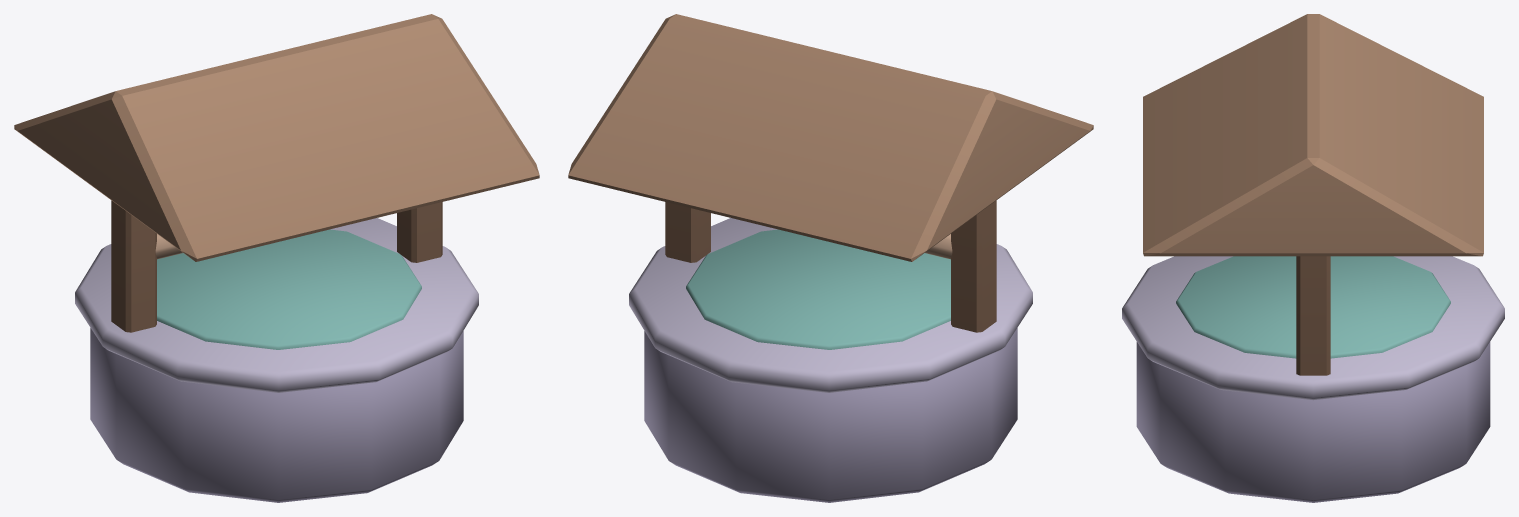
The model's file is well.glb.
3 views of the same model, side by side, from view 1: azimuth 30°, elevation 25°; view 2: azimuth 150°, elevation 25°; view 3: azimuth 270°, elevation 25° (orthographic). The views are drawn at different scales.
Visible parts, largest first — view 1: well; view 2: well; view 3: well.
Part boxes in pixels (<box>): well: <box>14,14,539,502</box>; well: <box>568,14,1093,502</box>; well: <box>1122,14,1504,502</box>.
Bounding box in the file's own units: 0.8 × 0.8 × 0.8.
